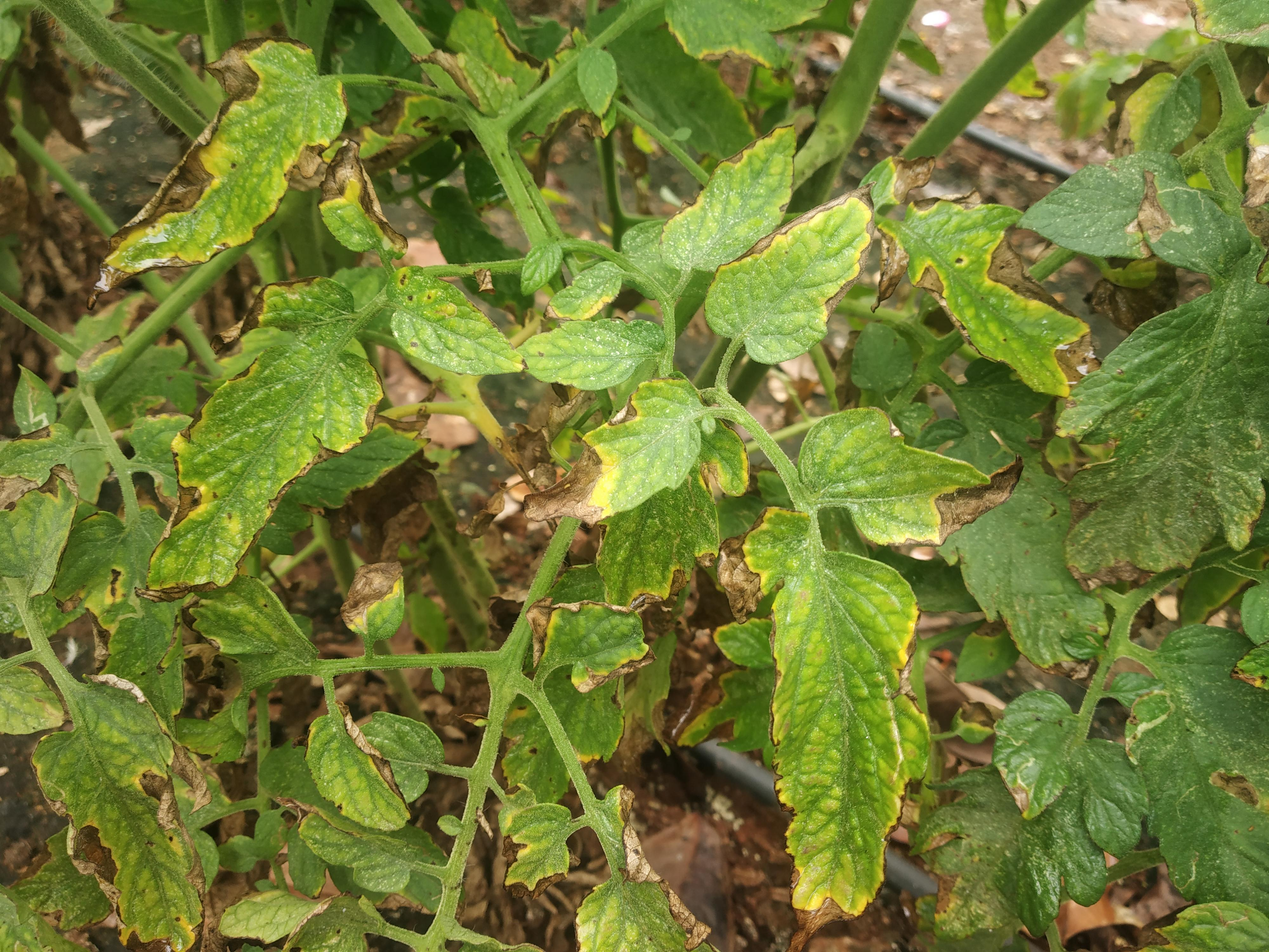Early Blight: (712, 506, 932, 952), (1045, 163, 1267, 592), (128, 271, 388, 608), (78, 30, 351, 313), (865, 142, 1105, 408), (23, 666, 215, 952), (1121, 616, 1269, 899), (798, 406, 1031, 552), (518, 373, 708, 527), (567, 780, 720, 952), (649, 118, 800, 275), (300, 697, 421, 837), (519, 582, 665, 698), (391, 262, 526, 379), (316, 135, 416, 258), (493, 802, 577, 905), (335, 555, 414, 644)
